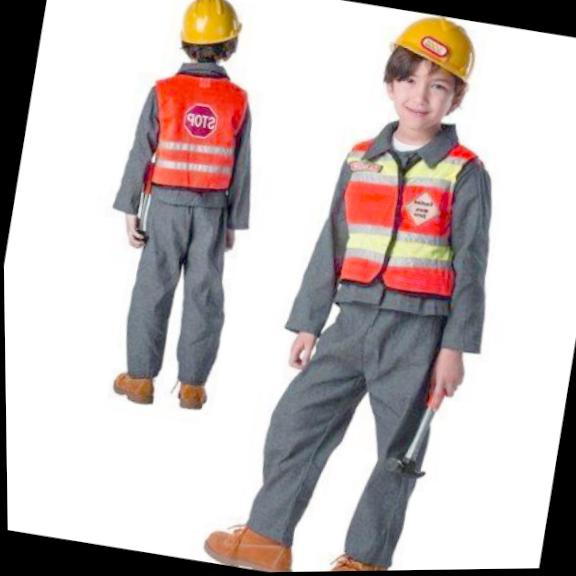safety_vest: (311, 113, 481, 316), (130, 60, 255, 209)
